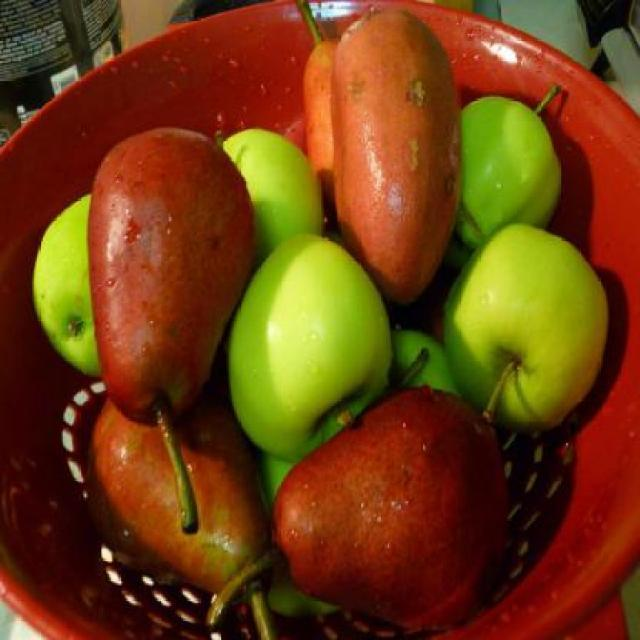Apple pie: (31, 82, 564, 616), (433, 230, 612, 444)
